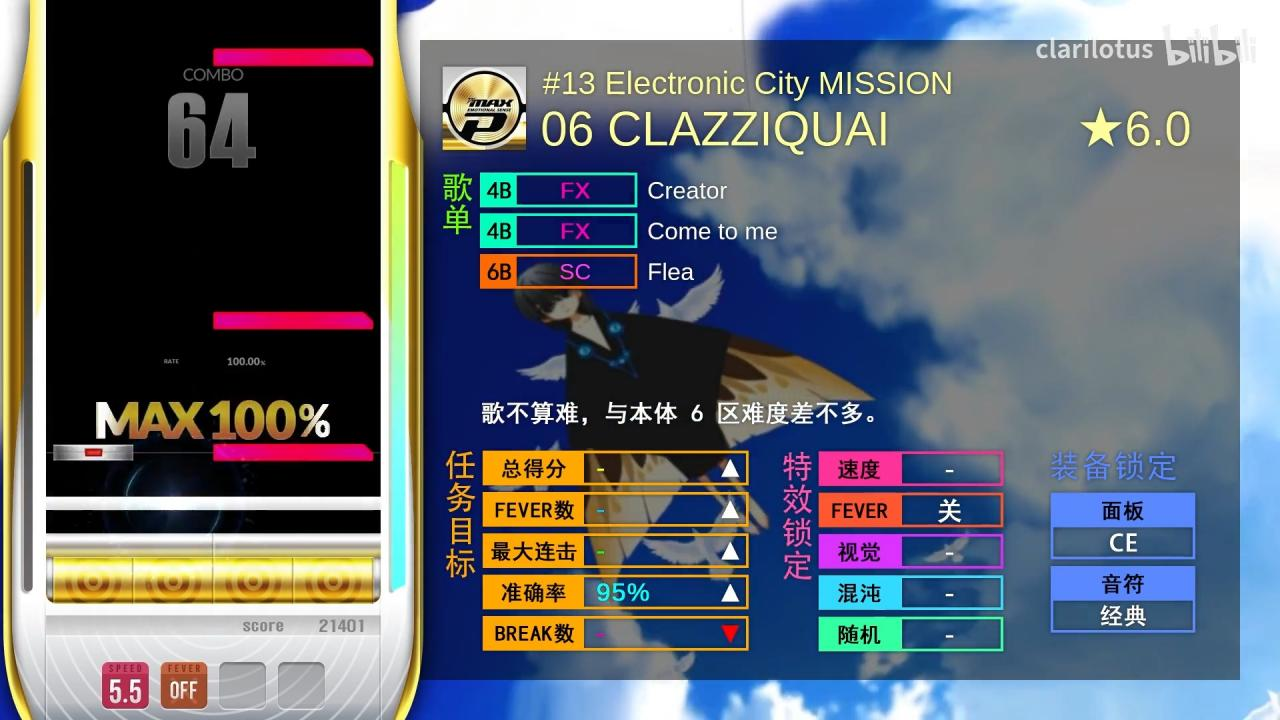note: (54, 444, 133, 460)
xnote: (214, 311, 374, 329), (213, 48, 373, 66), (213, 444, 373, 460)
